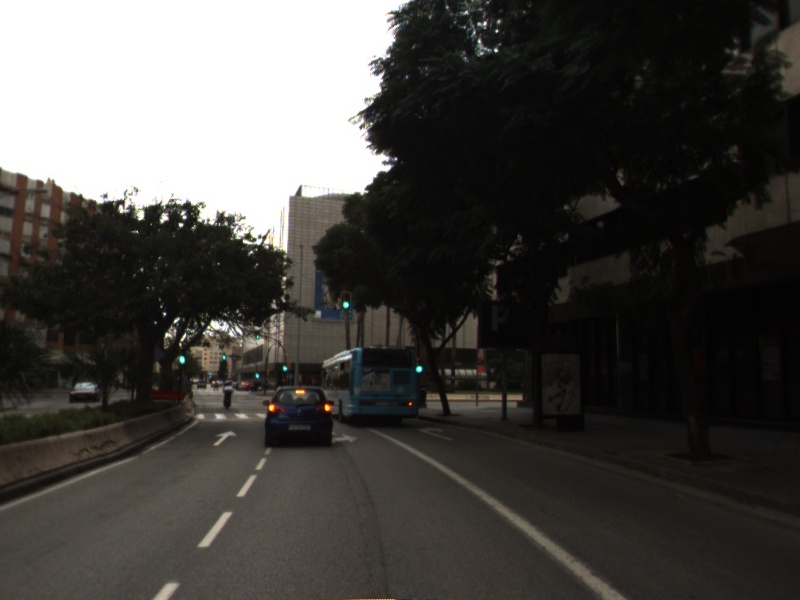RIGHT: (417, 425, 456, 443)
STRAIGHT: (211, 429, 240, 448)
